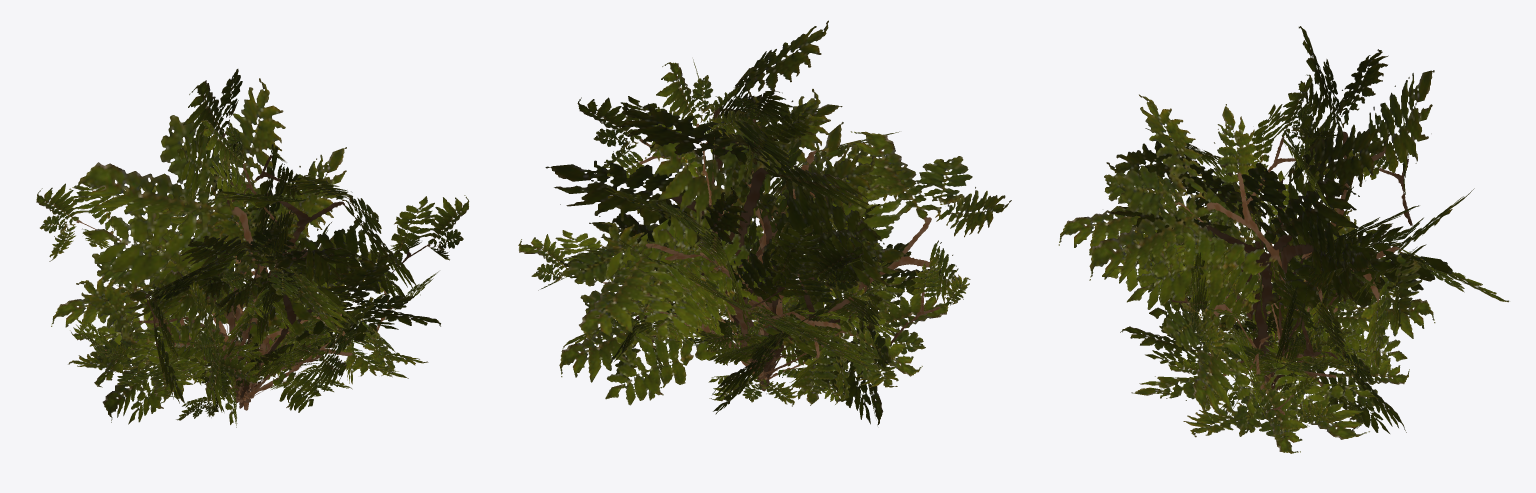
The picture shows the model from 3 angles, left to right: view 1: azimuth 30°, elevation 25°; view 2: azimuth 150°, elevation 25°; view 3: azimuth 270°, elevation 25°; orthographic projection. The views are drawn at different scales.
Visible parts, largest first — view 1: bush_01; view 2: bush_01; view 3: bush_01.
Boxes of the visible parts, box(x1,y1,x2,y2) form: bush_01: box(36, 69, 469, 427); bush_01: box(518, 20, 1011, 425); bush_01: box(1058, 26, 1509, 453).
Size of the model in its own units: 1.25 by 1.17 by 1.15.
